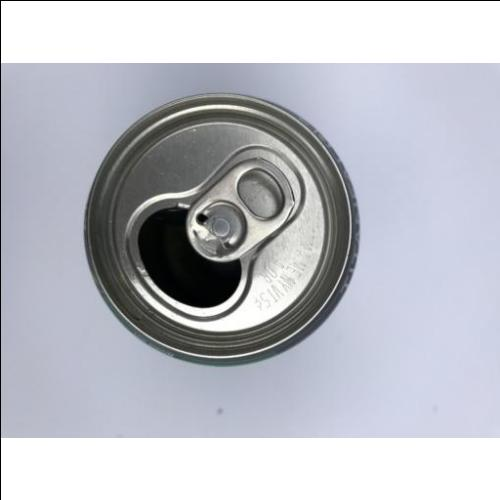metal: (82, 91, 364, 368)
